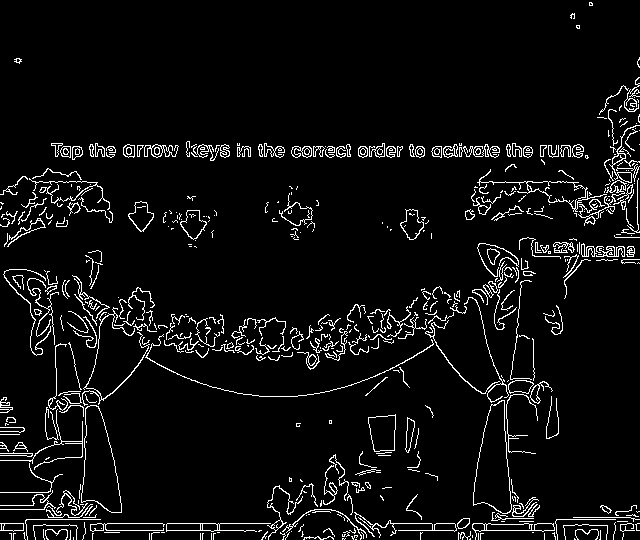down: (174, 206, 215, 247), (394, 204, 431, 247), (124, 197, 158, 235)
left: (272, 196, 318, 230)
